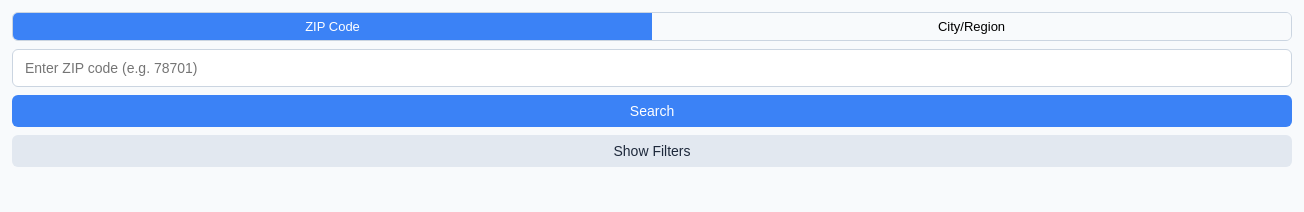
Scenario: SearchPanel › shows validation error for invalid ZIP
Step 1. Type "1234" into the field with test id "search-input" → (652, 68), box [12,49,1292,87]
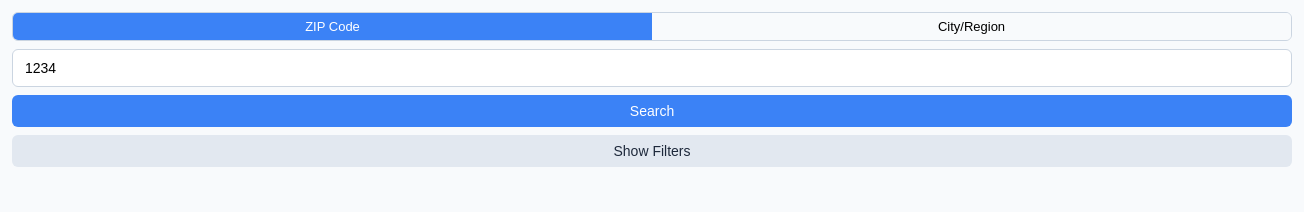
Step 2. Click the button with test id "search-submit-button" → click(652, 111), box [12,95,1292,127]
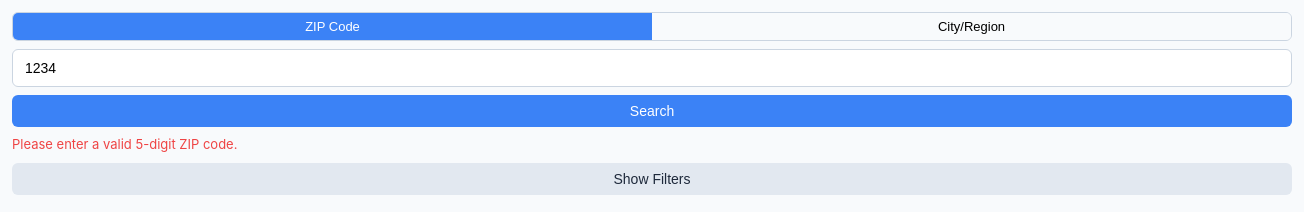
Expected: the message shows "5-digit ZIP", [12,136,238,152]
